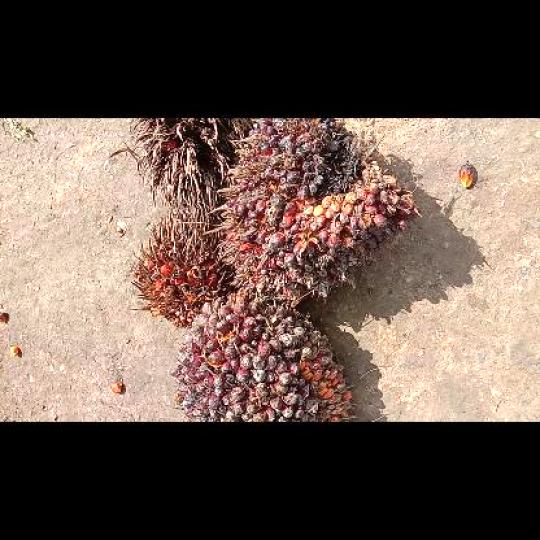kurang masak: (171, 298, 359, 420)
masak: (201, 119, 425, 304)
terlalu masak: (125, 212, 236, 330)
